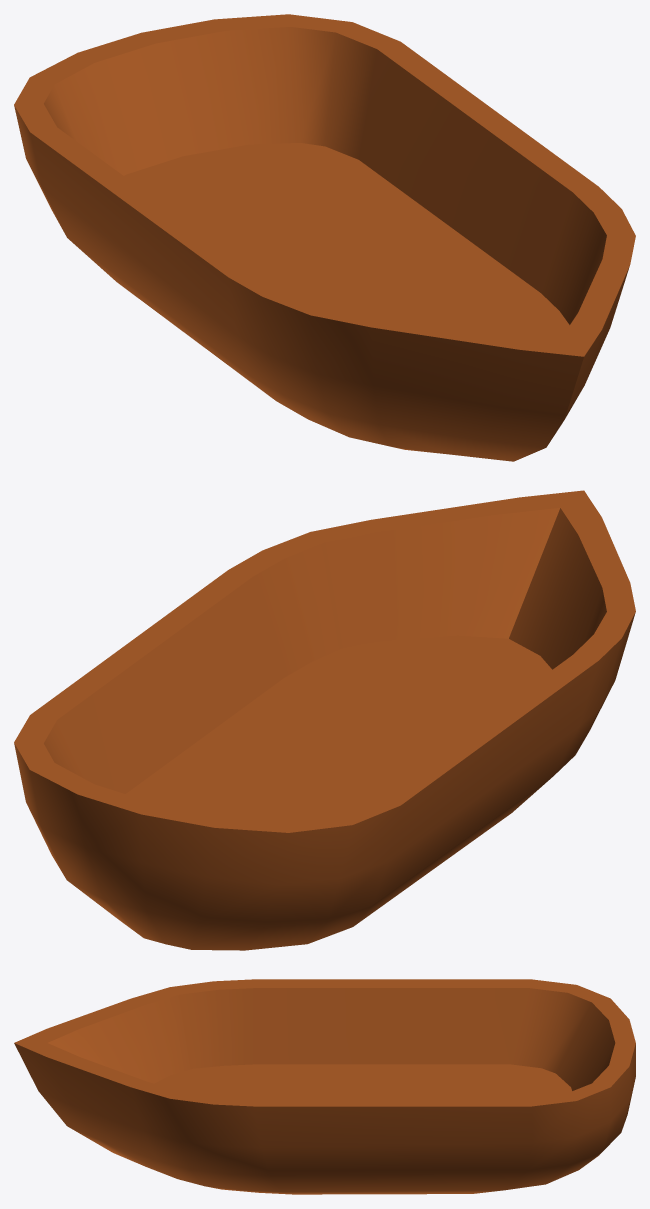
Rendered from Boat.fbx.
3 views of the same model, one above another, from view 1: azimuth 30°, elevation 25°; view 2: azimuth 150°, elevation 25°; view 3: azimuth 270°, elevation 25° (orthographic). The views are drawn at different scales.
Visible parts, largest first — view 1: boat; view 2: boat; view 3: boat.
Boxes of the visible parts, x1,y1,x2,y2 form: boat: (14, 14, 635, 461); boat: (14, 490, 635, 950); boat: (14, 979, 635, 1194).
Size of the model in its own units: 231 by 108 by 478.
